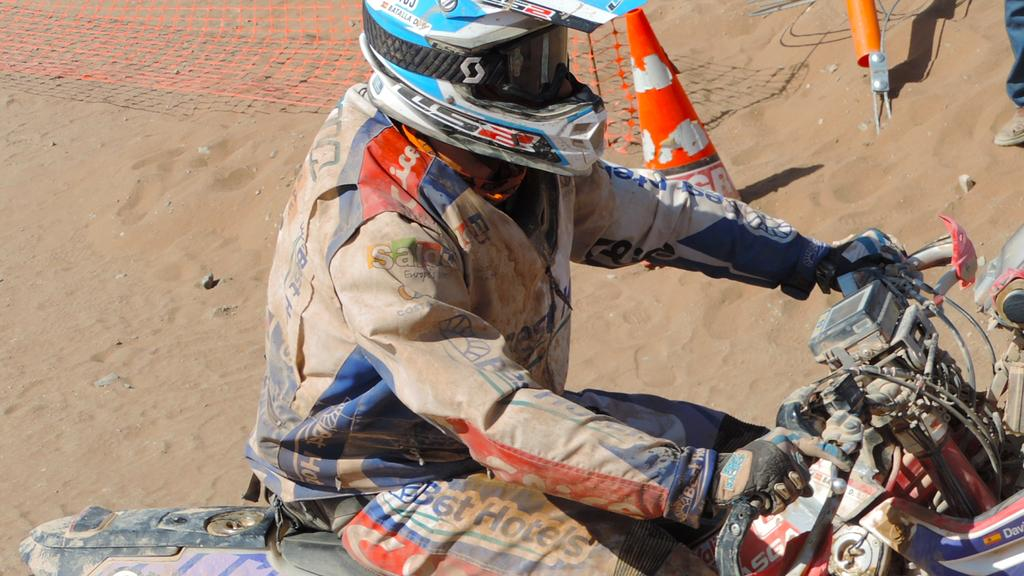helmet: (358, 0, 648, 178)
